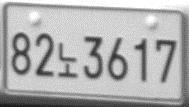1: (133, 38, 148, 82)
2: (35, 33, 54, 77)
3: (83, 36, 102, 79)
6: (106, 36, 129, 80)
7: (155, 38, 177, 83)
8: (11, 31, 31, 75)
노: (57, 41, 79, 78)
